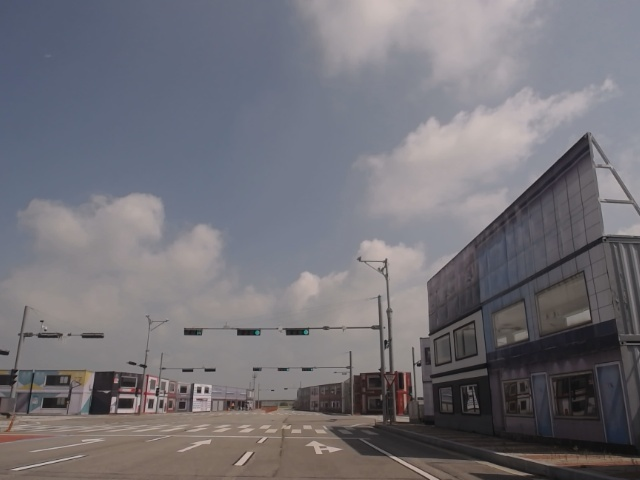straight_green_4: (236, 329, 262, 337), (284, 328, 309, 336)
